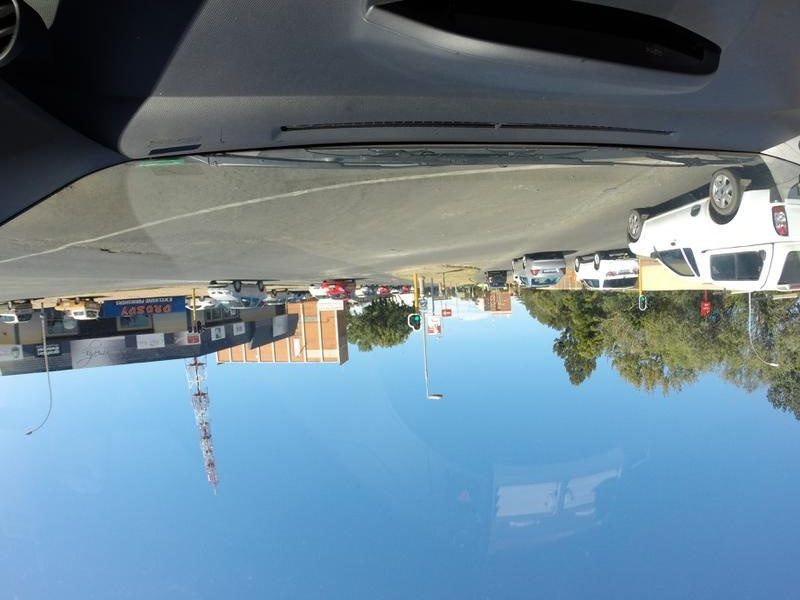pothole: (93, 241, 166, 264), (387, 245, 403, 255)
